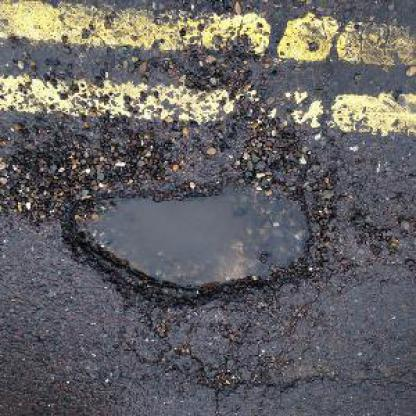pothole: (59, 168, 334, 315)
